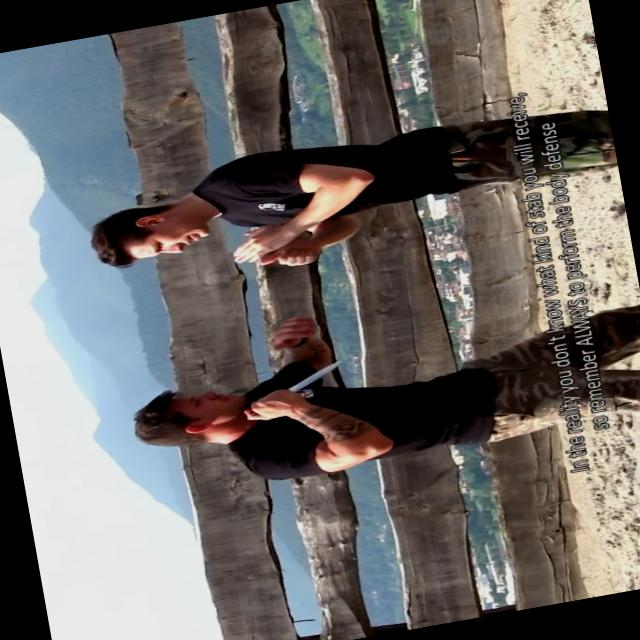knife: (234, 356, 356, 423)
